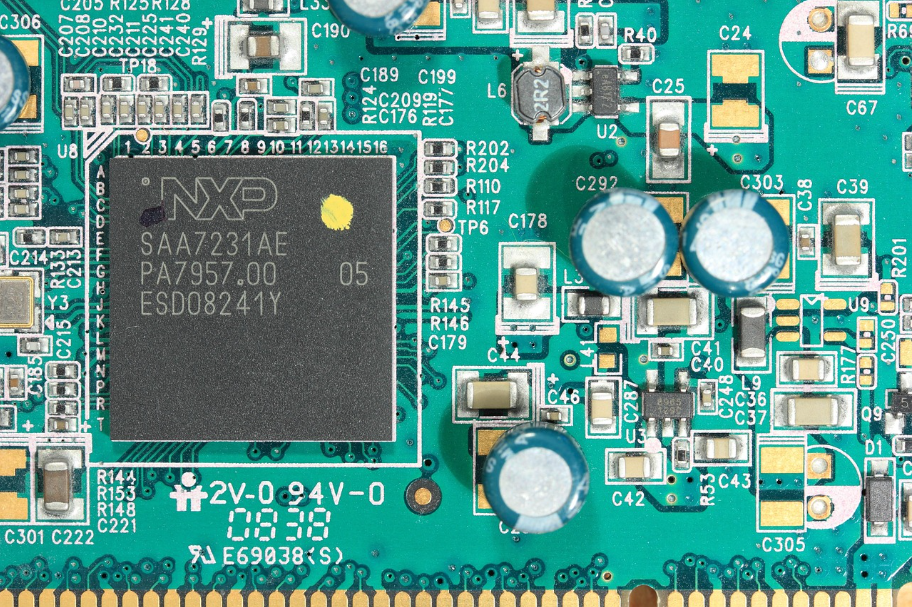kondensator: (475, 427, 594, 540), (572, 180, 673, 294), (687, 188, 794, 290), (755, 434, 851, 538), (704, 44, 769, 143), (498, 241, 557, 327), (838, 3, 879, 90), (826, 199, 870, 275), (775, 392, 848, 430), (462, 370, 522, 414), (36, 450, 77, 512), (1, 446, 32, 518), (644, 294, 706, 329), (651, 111, 680, 170), (613, 450, 664, 480), (234, 28, 283, 57), (782, 356, 832, 382), (699, 435, 748, 460), (589, 385, 617, 426), (541, 407, 572, 426), (700, 383, 717, 412), (119, 95, 134, 122), (9, 203, 36, 218), (51, 231, 81, 244), (651, 342, 683, 354), (799, 226, 811, 258), (305, 77, 324, 97), (8, 371, 24, 394), (99, 96, 113, 122), (430, 276, 460, 288), (8, 165, 33, 179), (64, 95, 77, 120), (64, 73, 86, 87), (11, 149, 32, 163), (318, 107, 335, 124), (171, 94, 183, 118), (11, 187, 35, 199), (20, 339, 44, 351), (240, 77, 262, 90), (266, 116, 285, 130), (190, 92, 200, 118), (270, 100, 290, 112), (81, 99, 90, 125), (136, 97, 144, 122), (153, 98, 162, 120)
